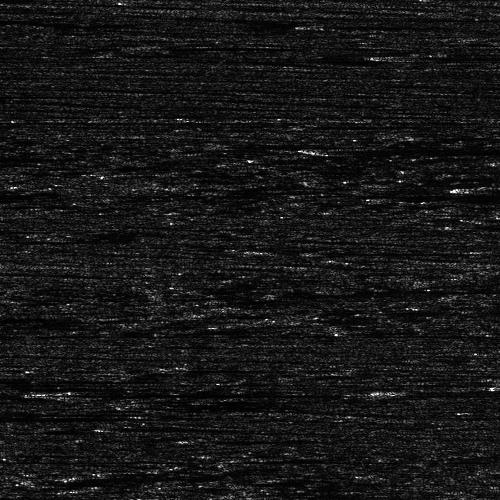rock: (17, 387, 100, 396), (462, 378, 500, 387), (369, 53, 432, 58), (368, 387, 421, 392), (304, 147, 345, 152)
shadow: (59, 387, 321, 396), (0, 412, 179, 421), (325, 147, 500, 152), (395, 387, 500, 392), (401, 53, 500, 58)
